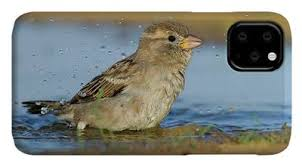hsparrow: (20, 19, 206, 139)
